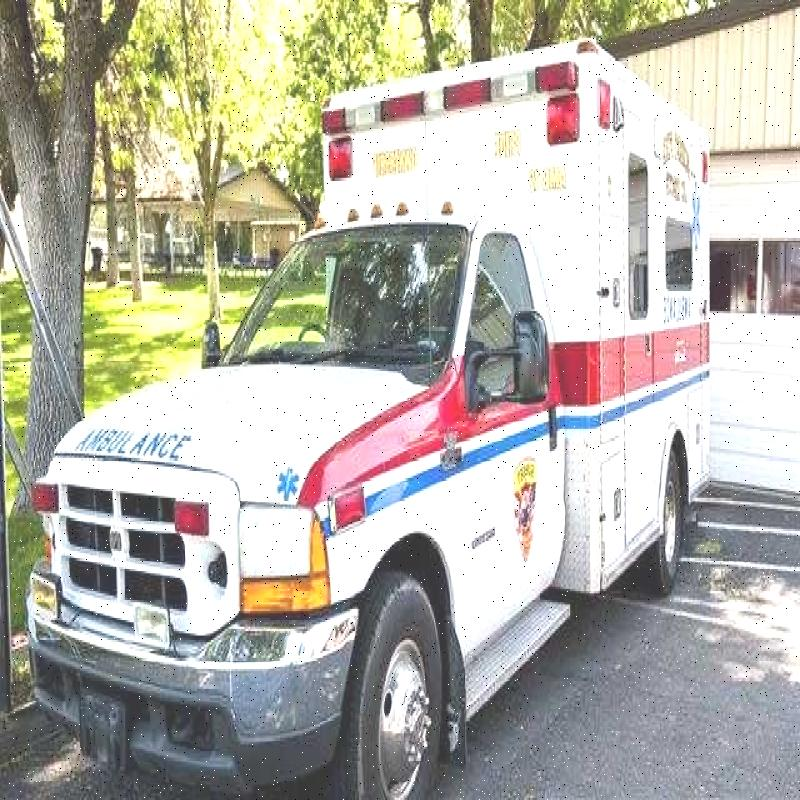AmbulanceSiren: (316, 43, 587, 159)
